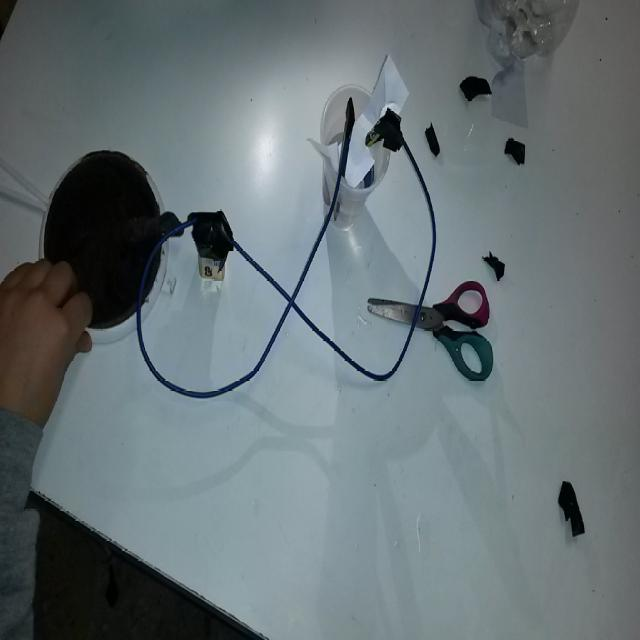scissors: (366, 279, 493, 381)
